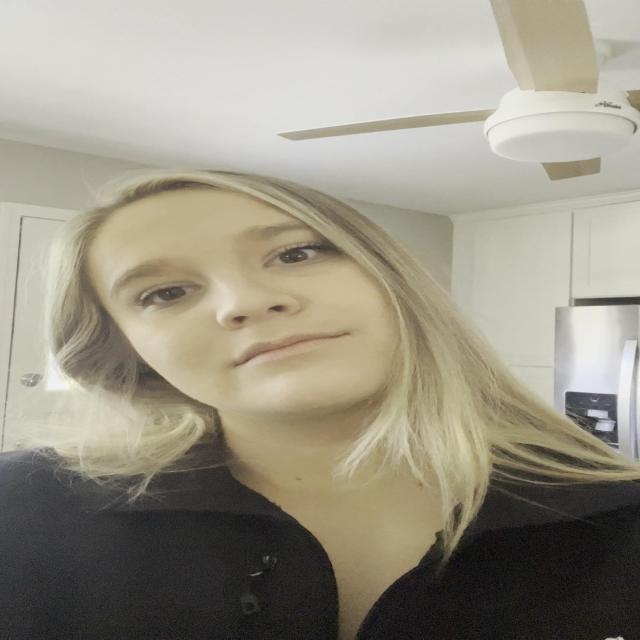no-helmet: (65, 183, 466, 444)
